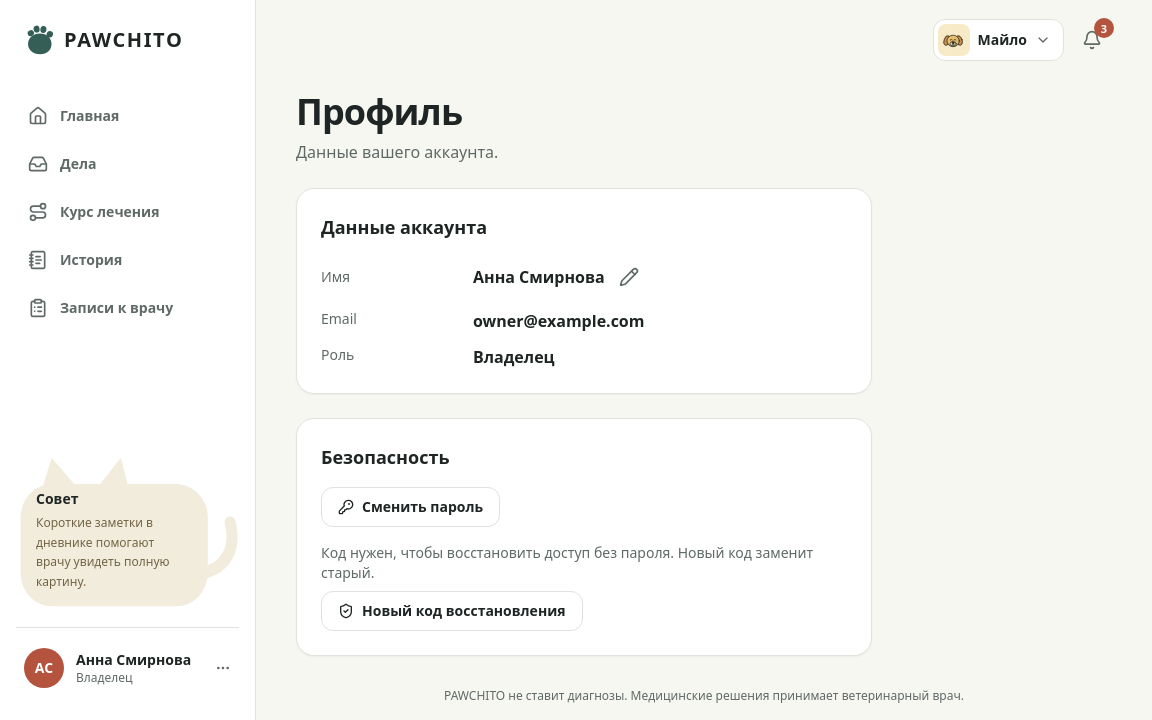
Scenario: ProfilePage › смена пароля: модалка закрывается, статус, сессия жива
This screenshot has width=1152, height=720.
Click the button "Сменить пароль". click: (411, 507)
box: [321,487,500,527]
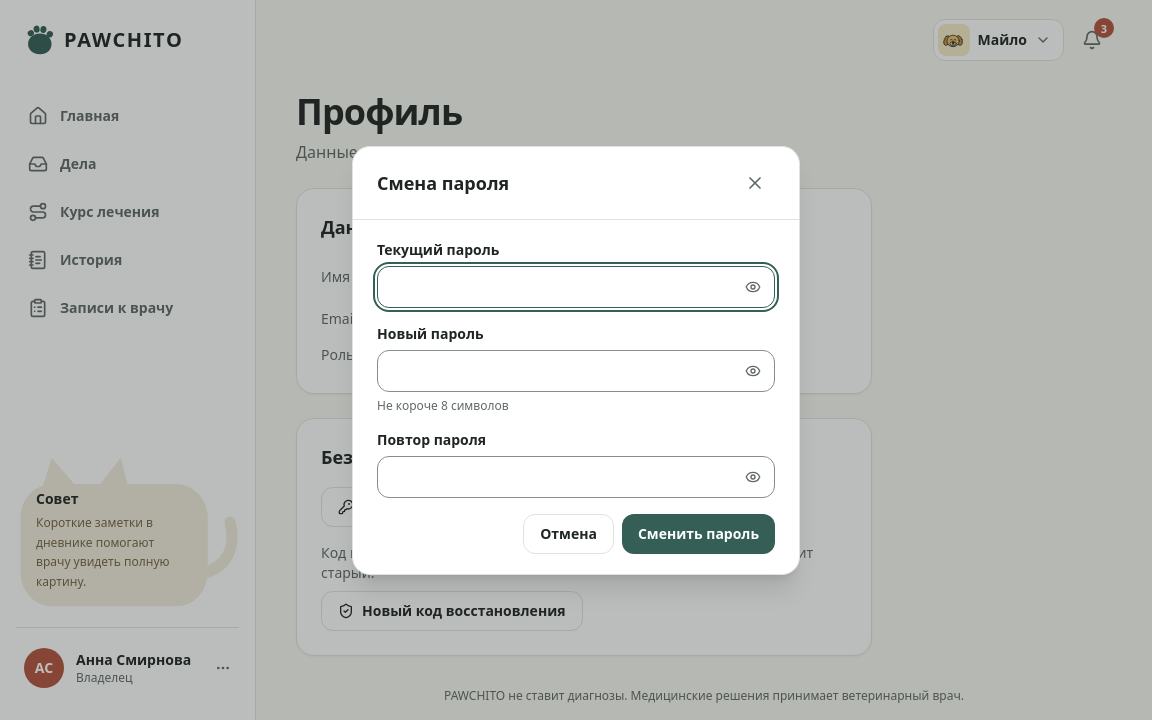
Type "pawchito1" into the password field labelled "Текущий пароль". click: (576, 286)
box: [377,266,775,308]
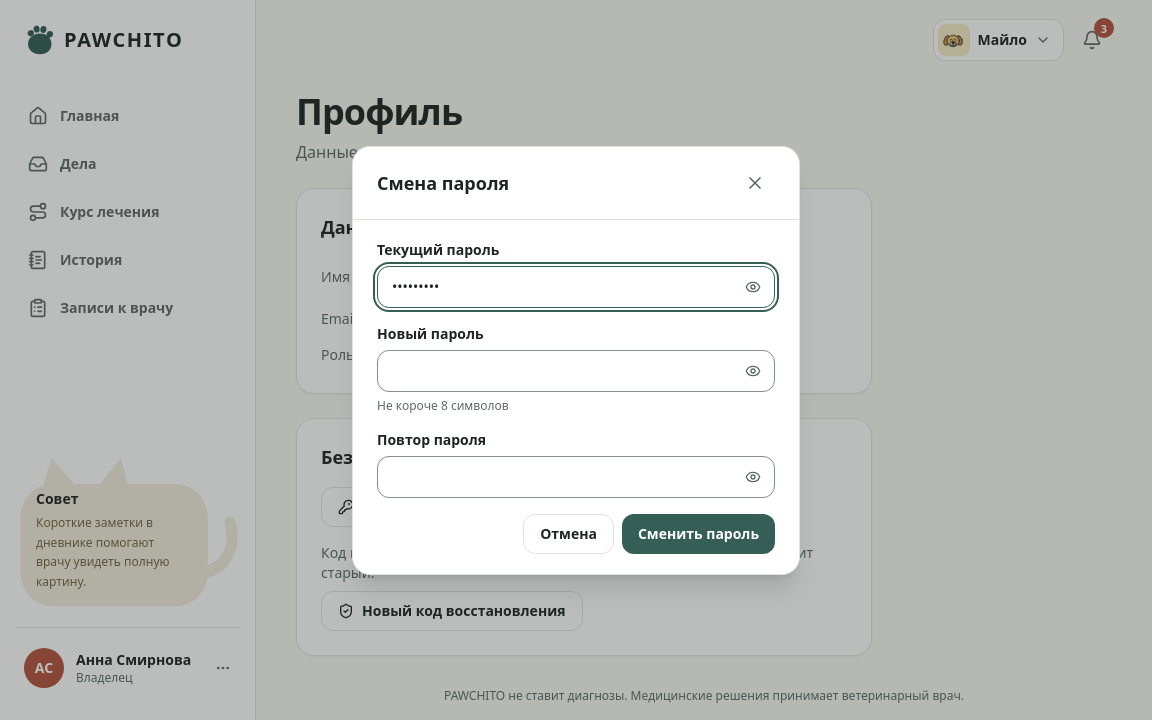
Type "newsecret1" into the password field labelled "Новый пароль". click: (576, 370)
box: [377,350,775,392]
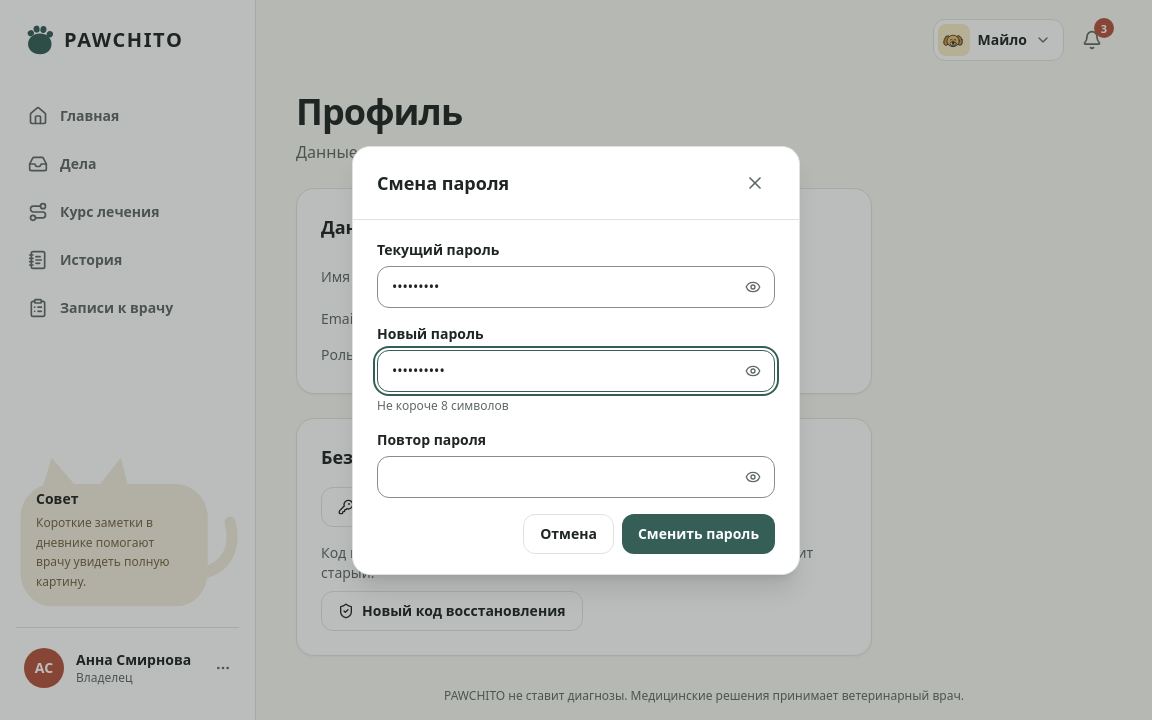
Type "newsecret1" into the password field labelled "Повтор пароля". click: (576, 476)
box: [377,456,775,498]
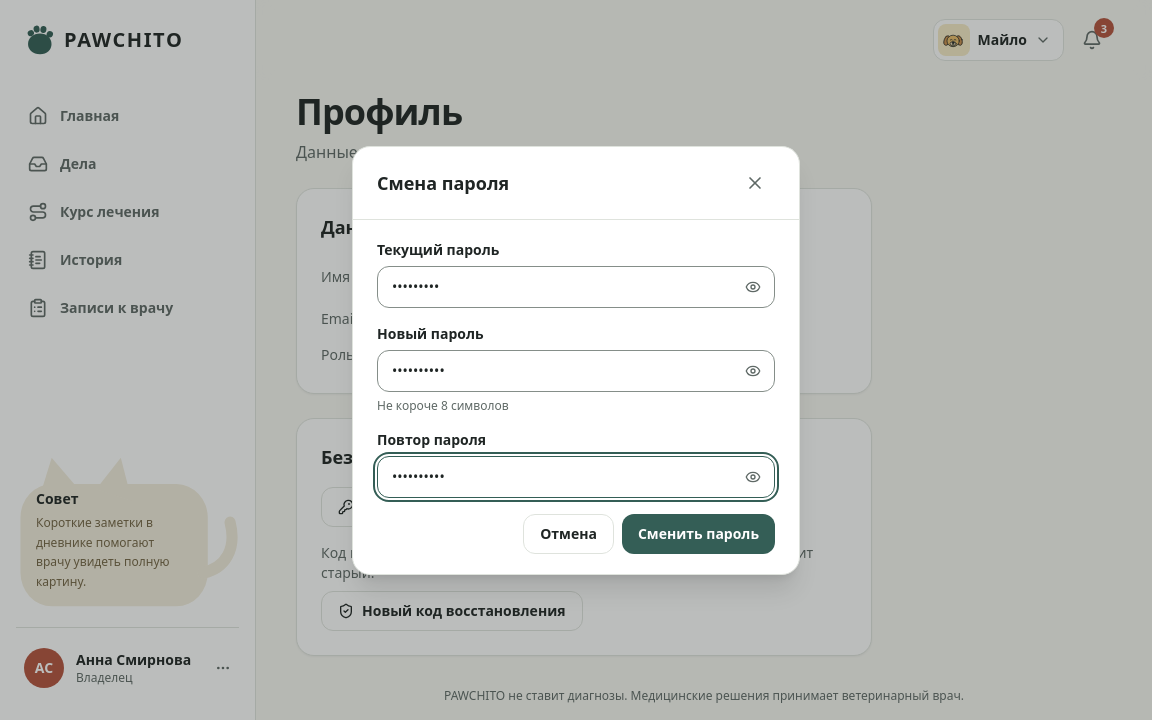
Click the button "Сменить пароль". click: (698, 534)
box: [622,514,775,554]
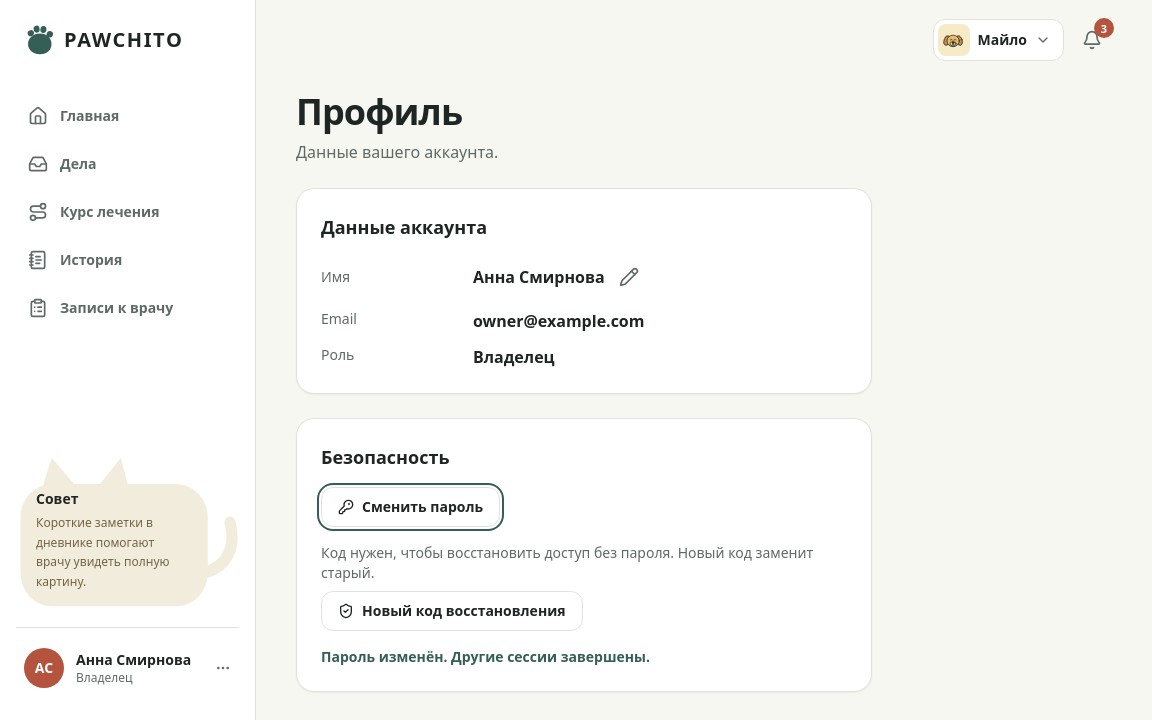
expect the heading "Профиль" is shown: met, box [296,87,462,136]
expect the text "Пароль изменён. Другие сессии завершены." is shown: met, box [321,647,650,666]
expect the label labelled "Повтор пароля" is gone: met
